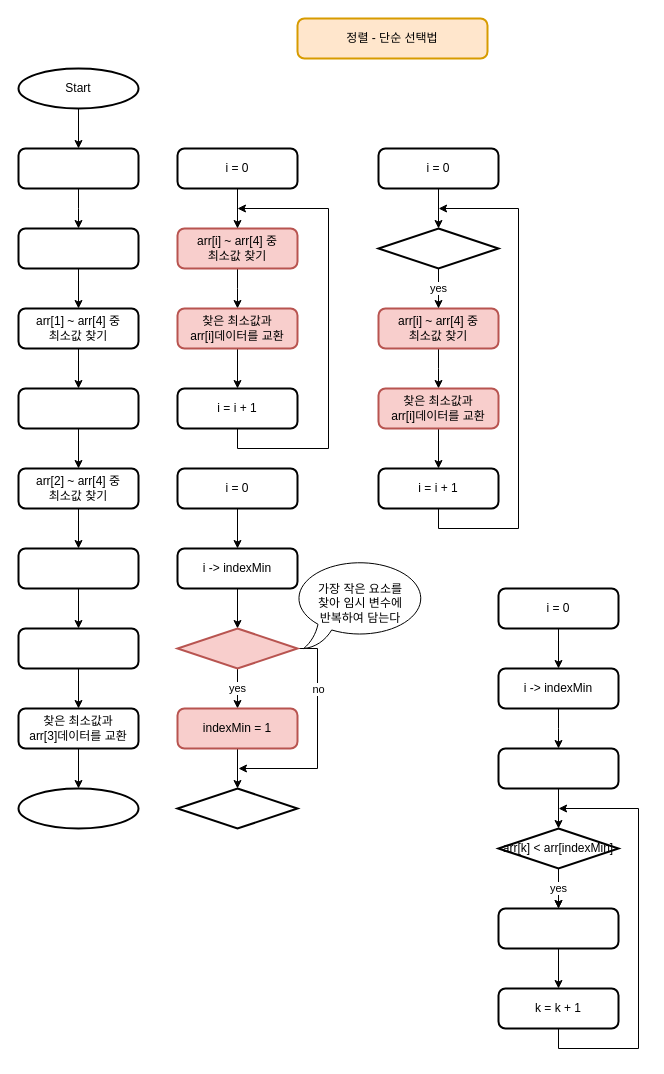
This 664x1074 diagram has some shape labels left out. The shapes that lost their labels are listed below. From the top down, each one's box as (x1, y1, x2, y2) in pixels, then its label:
(17, 147, 139, 189): arr[0] ~ arr[4] 중 최소값 찾기
(17, 227, 139, 269): 찾은 최소값과 arr[0]데이터를 교환
(377, 227, 499, 269): i < len(arr)
(17, 387, 139, 429): 찾은 최소값과 arr[1]데이터를 교환
(17, 547, 139, 589): 찾은 최소값과 arr[2]데이터를 교환
(17, 627, 139, 669): arr[3] ~ arr[4] 중 최소값 찾기
(176, 627, 298, 669): arr[1] < arr[indexMin]
(497, 747, 619, 789): k = 1
(17, 787, 139, 829): end
(176, 787, 298, 829): arr[2] < arr[indexMin]
(497, 907, 619, 949): indexMin = k
